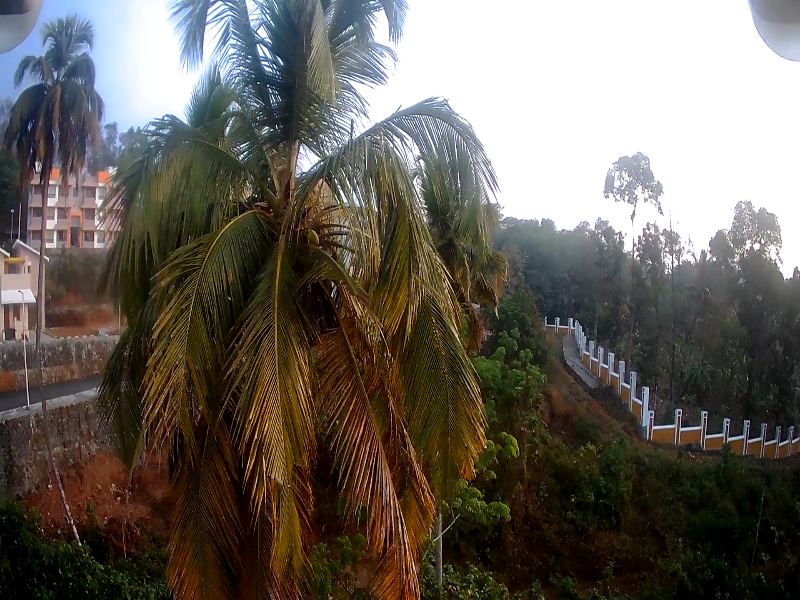coconut: (304, 226, 323, 252)
